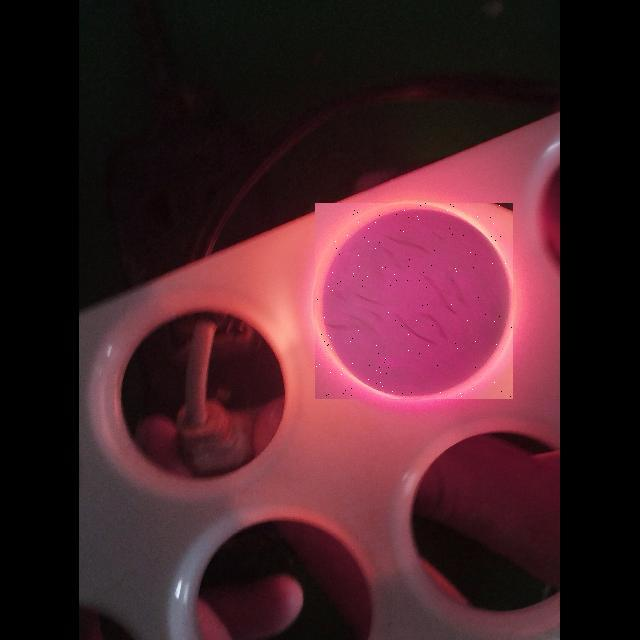Infertile: (315, 203, 513, 399)
